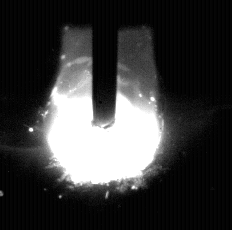arame: (94, 0, 117, 129)
poca: (46, 0, 162, 230)
